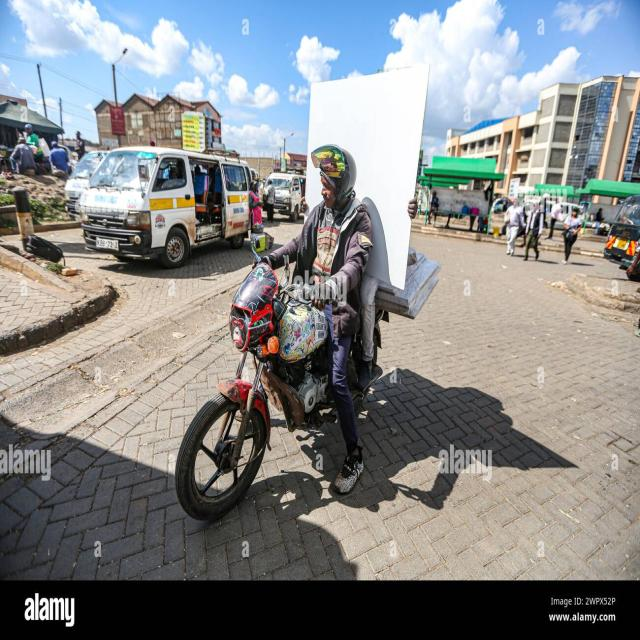bodaboda: (170, 228, 456, 527)
matatu: (78, 143, 258, 274)
